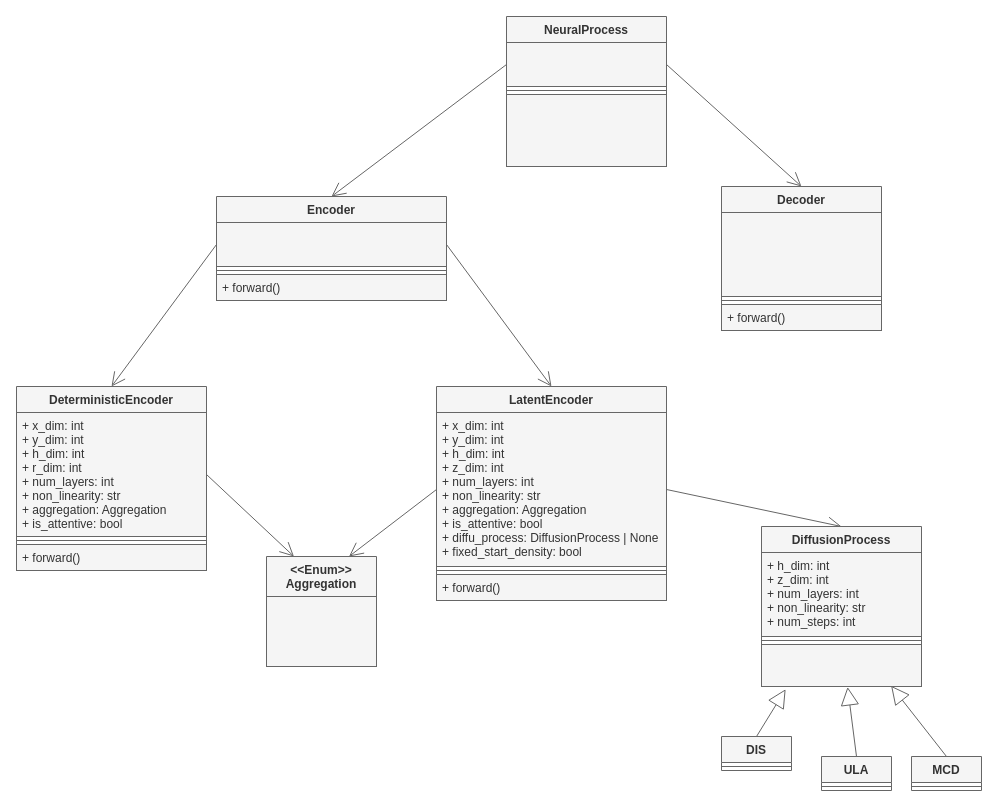
This 998x807 diagram has some shape labels left out. The shapes that lost their labels are listed below. From the top down, each one's centre as x and y in pixels, then its label:
(586,64): + encoder: Encoder + decoder: Decoder
(586,130): + encode() + decode() + forward() + sample()
(331,244): + det_enc: DeterministicEncoder | None + lat_enc: LatentEncoder | None
(801,254): + input_dim: int + h_dim: int + y_dim:int + num_layers: int + non_linearity: str
(321,631): MEAN SUM MAX MIN
(841,665): + forward_transition() + backward_transition()
